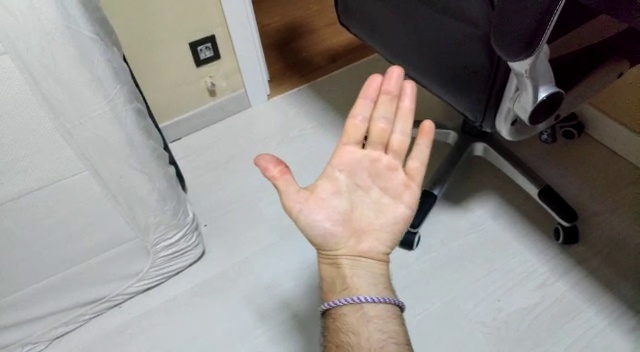Palm: (252, 61, 437, 270)
